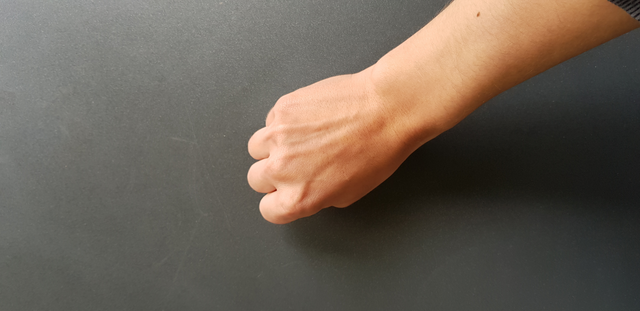Rock: (229, 77, 428, 235)
